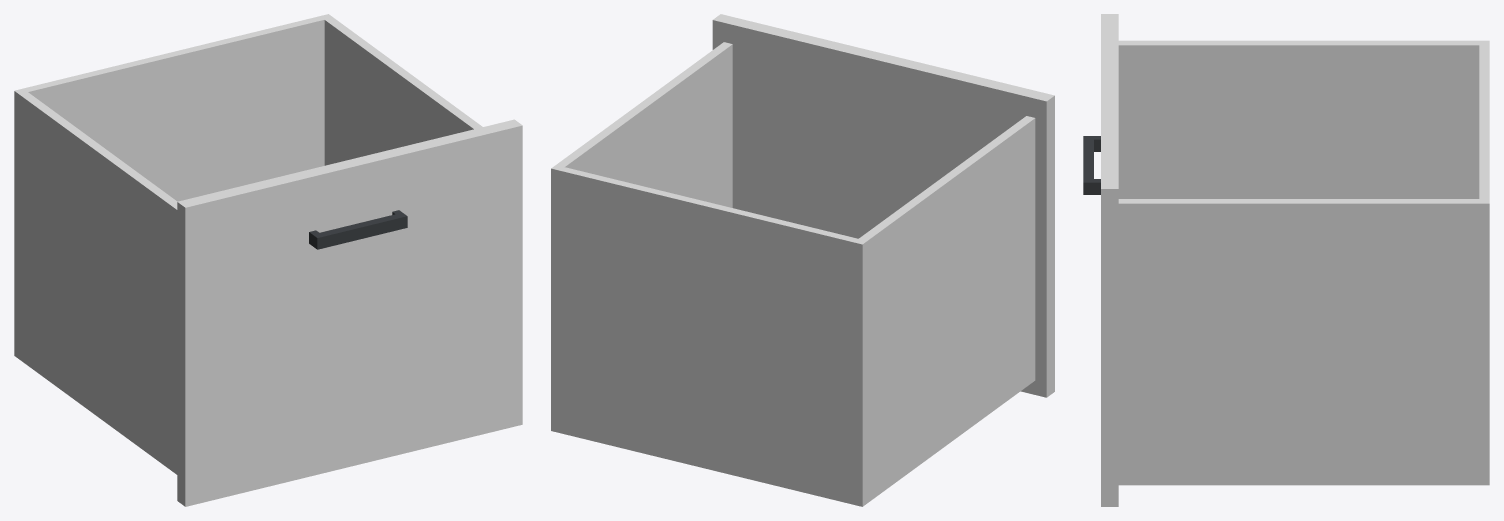
The model's file is Door2_C1_06.fbx.
3 views of the same model, side by side, from view 1: azimuth 30°, elevation 25°; view 2: azimuth 150°, elevation 25°; view 3: azimuth 270°, elevation 25° (orthographic). The views are drawn at different scales.
Parts seen in each view (by area): view 1: Door2_C1_06; view 2: Door2_C1_06; view 3: Door2_C1_06.
Boxes of the visible parts, <box> form: Door2_C1_06: <box>14,14,522,506</box>; Door2_C1_06: <box>551,14,1054,506</box>; Door2_C1_06: <box>1083,14,1489,506</box>.
Size of the model in its own units: 59 by 50 by 57.89.
